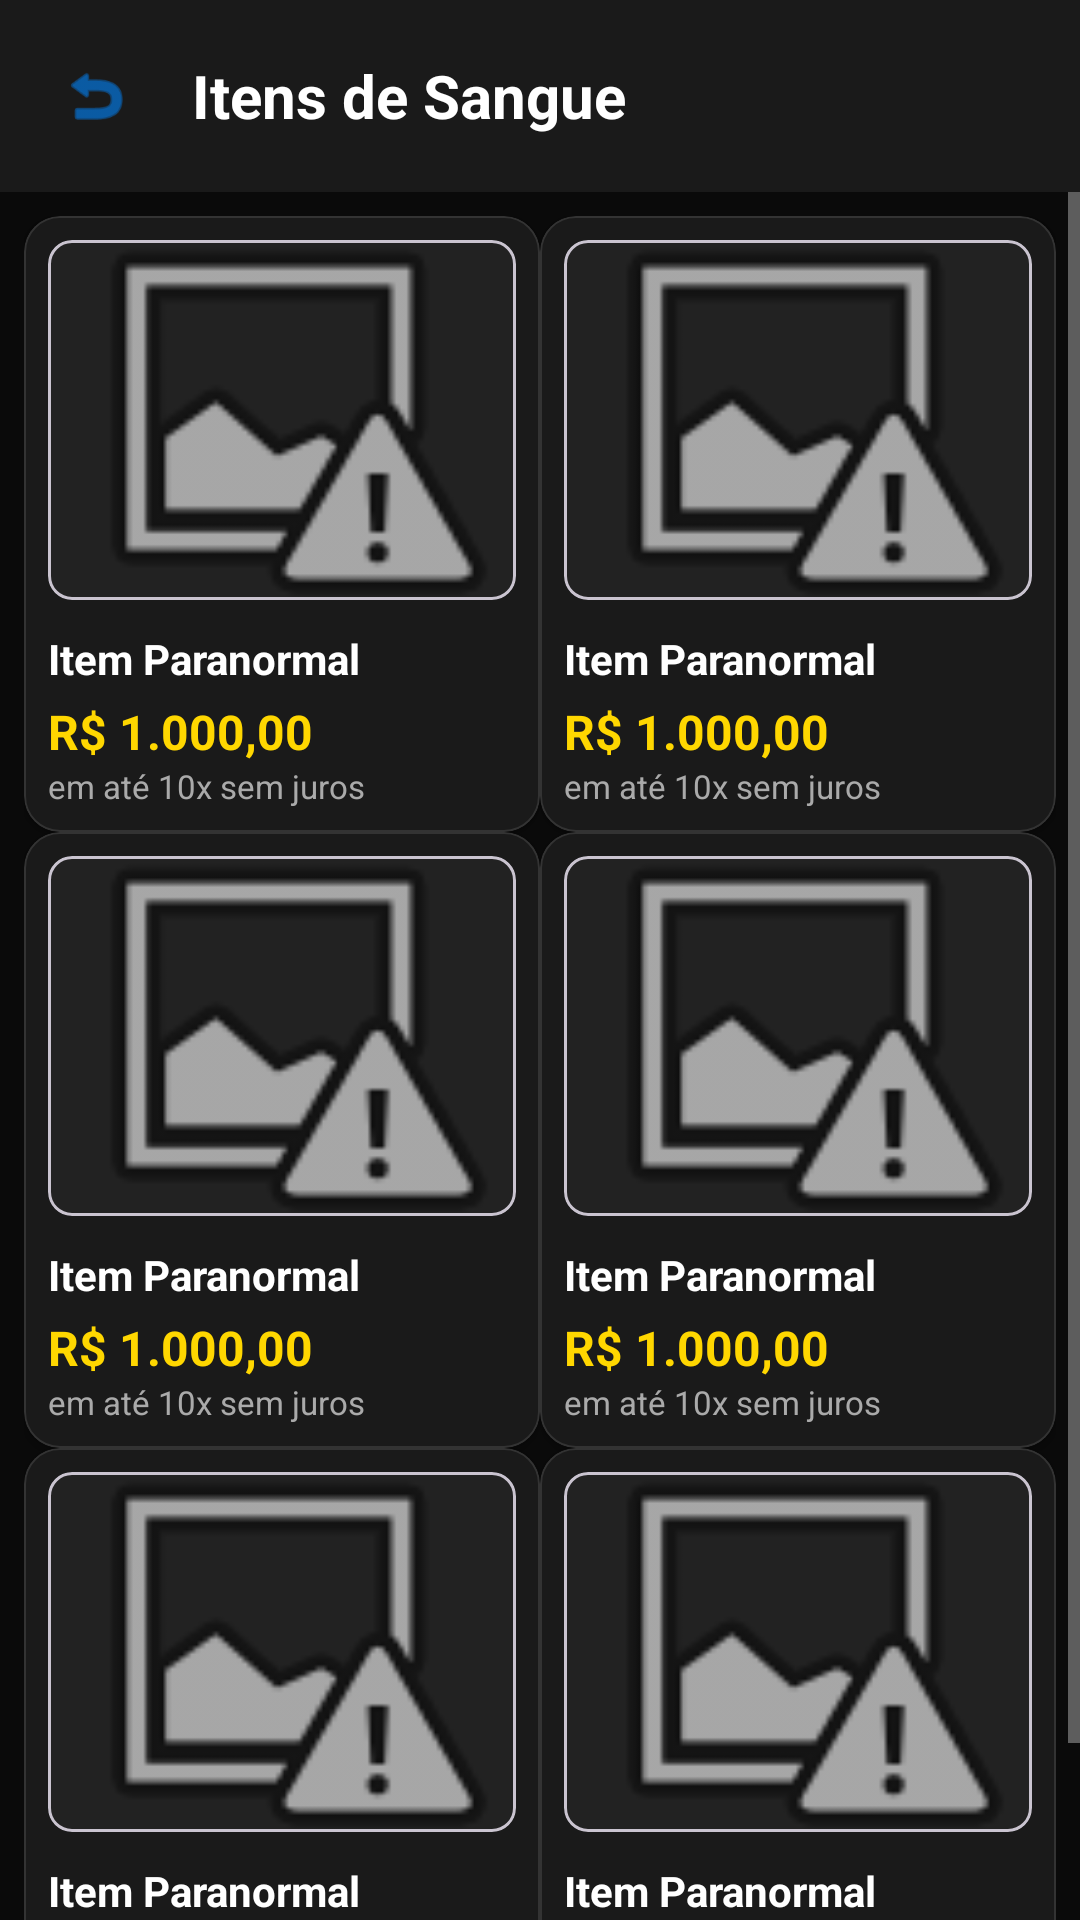

Locate icon controls on the screen. Image size 1080*1920, boxes as bbox=[x1, y1, x2, y2].
Voltar: bbox=[71, 73, 123, 120]
